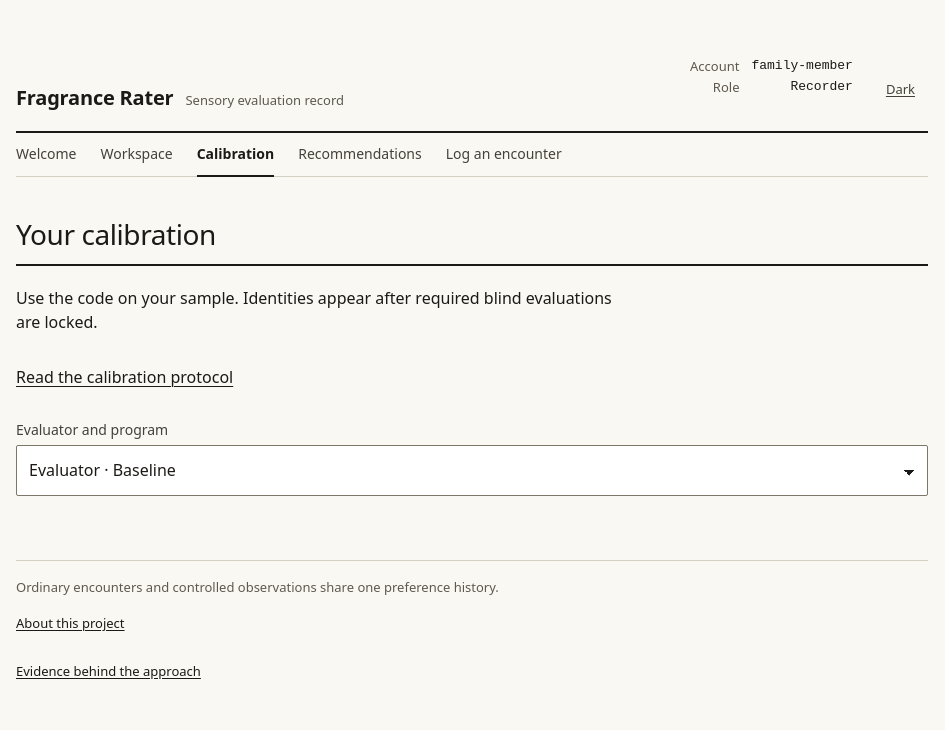
Test: Calibration participant workflow › explains reveal eligibility before allowing identity disclosure
Select "Evaluator · Baseline" in the dropdown labelled "Evaluator and program" at (472, 470), box [16,445,928,496]
(page scrolled)
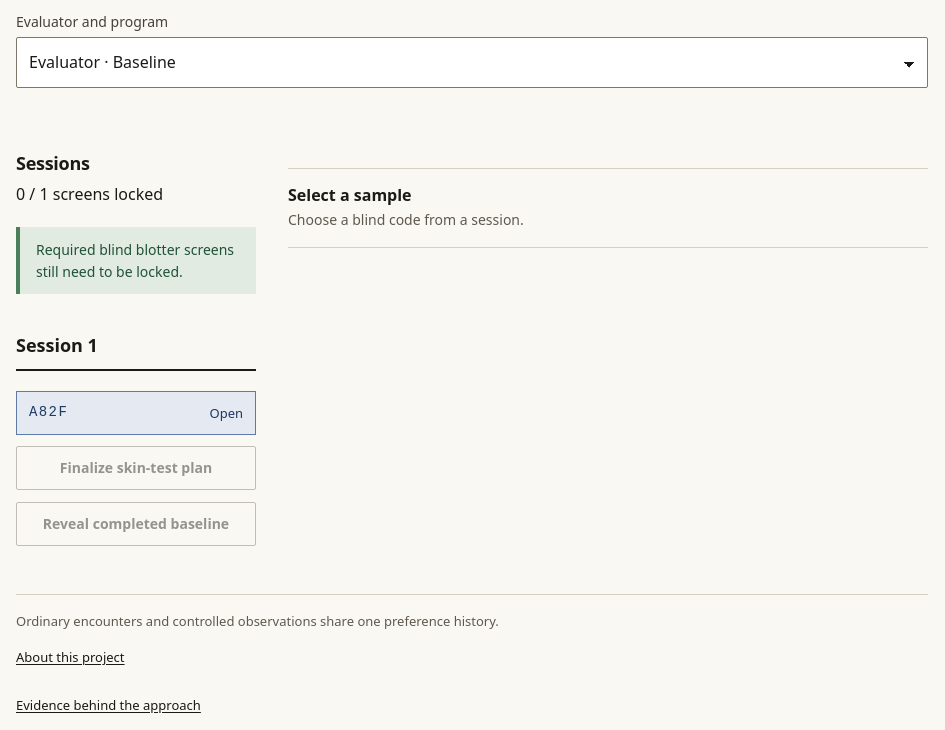
Now the text "Required blind blotter screens still need to be locked." is shown, box [16,227,256,294]
Now the button "Reveal completed baseline" is disabled, box [16,502,256,546]
